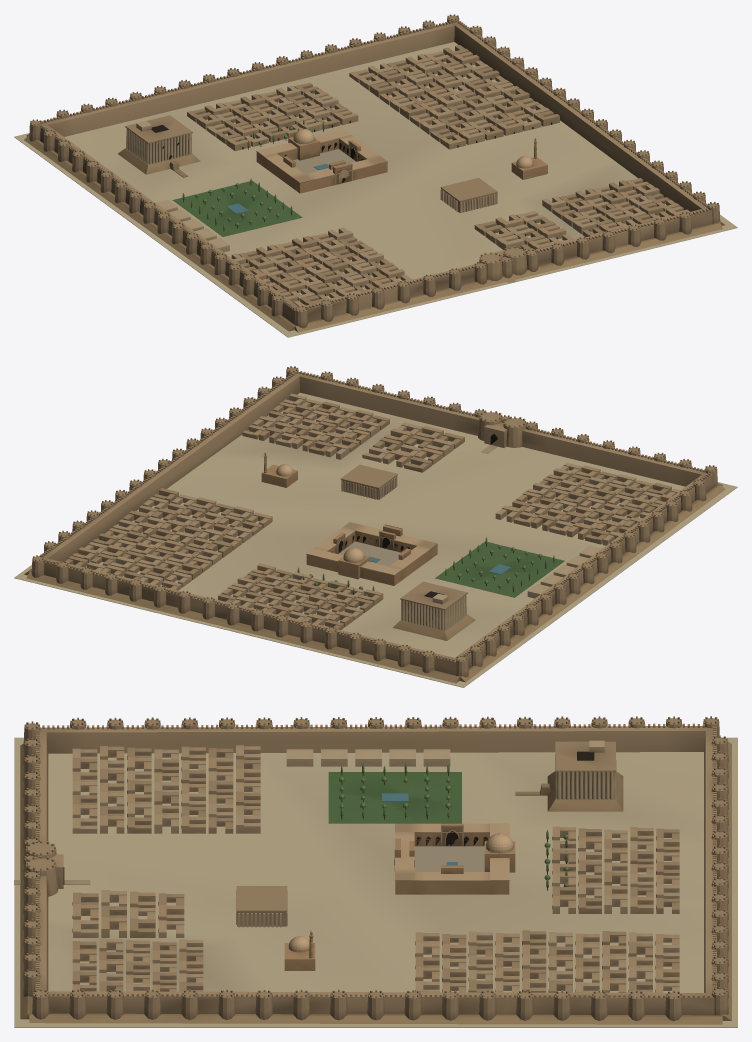
The model's file is shahriyar-ark.glb.
The picture shows the model from 3 angles, top to bottom: view 1: azimuth 30°, elevation 25°; view 2: azimuth 150°, elevation 25°; view 3: azimuth 270°, elevation 25°; orthographic projection. The views are drawn at different scales.
Parts seen in each view (by area): view 1: p2_palace, p0_ground, p1_walls, p3_keep; view 2: p2_palace, p0_ground, p1_walls, p3_keep; view 3: p0_ground, p2_palace, p1_walls, p3_keep.
Part boxes in pixels (x1,y1,x2,y2): p2_palace: (156,45,689,306); p0_ground: (14,42,737,337); p1_walls: (24,14,724,332); p3_keep: (118,115,200,177); p2_palace: (63,393,680,629); p0_ground: (14,392,737,687); p1_walls: (24,366,725,683); p3_keep: (392,581,475,640); p0_ground: (14,737,737,1027); p2_palace: (72,745,679,992); p1_walls: (14,716,731,1024); p3_keep: (515,740,623,811).
Bounding box in the file's own units: 360 × 25.4 × 380.
